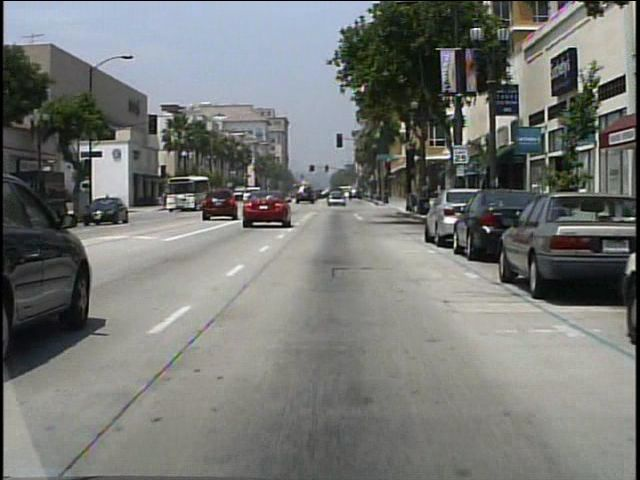person: (105, 194, 113, 216)
